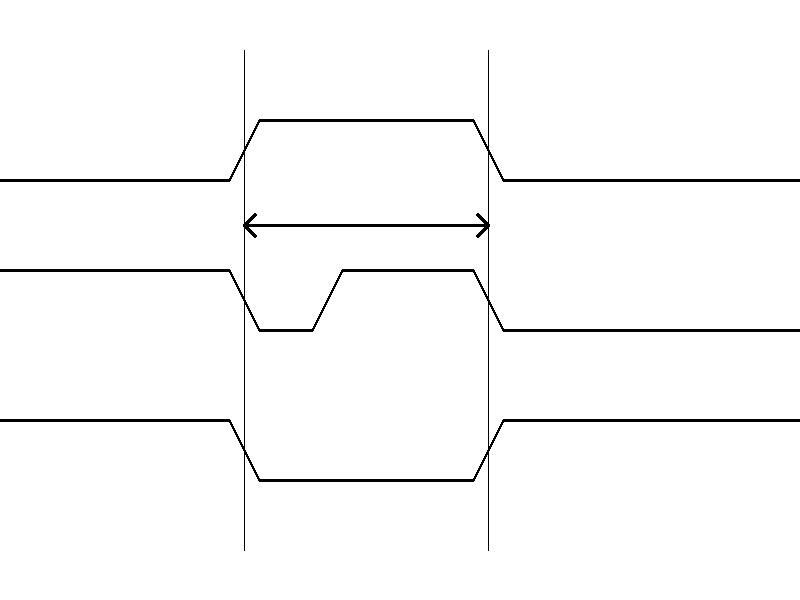double_arrow: (244, 210, 488, 240)
